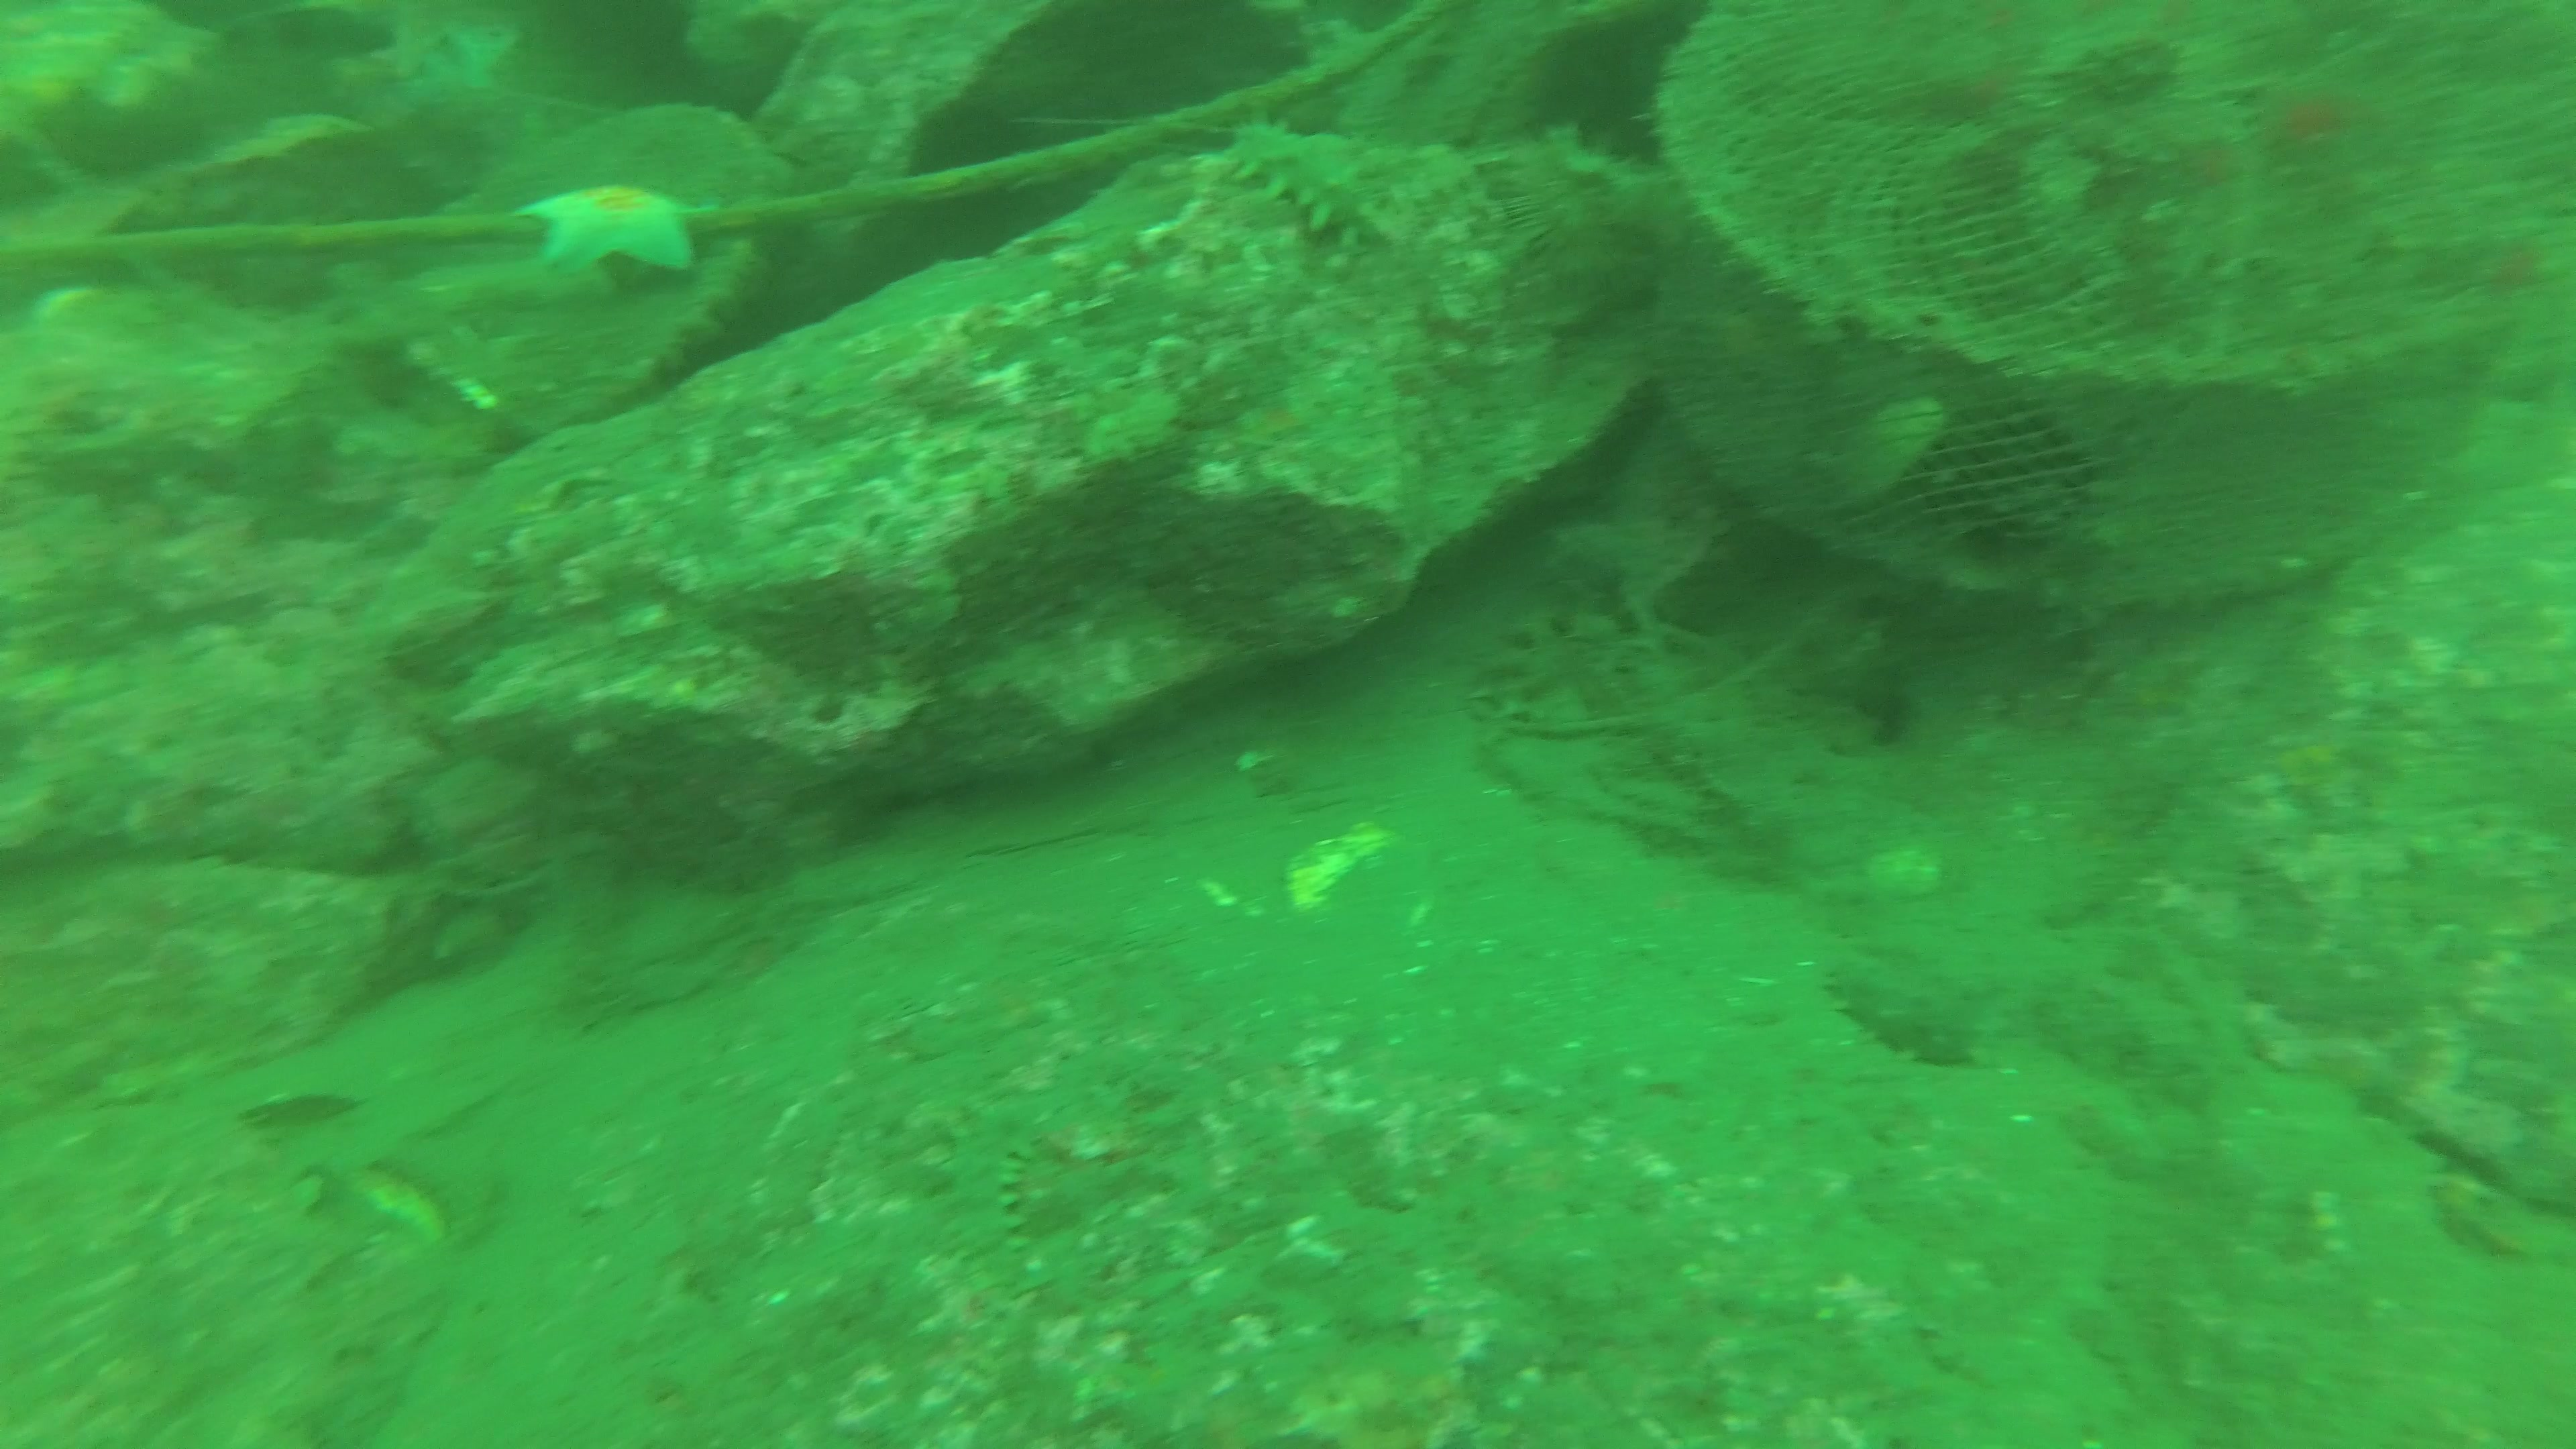echinus: (1507, 122, 1665, 341), (899, 94, 1035, 251)
holothurian: (934, 1074, 1054, 1323), (1215, 111, 1394, 255), (1810, 954, 1985, 1069)
starfish: (511, 172, 727, 278)
